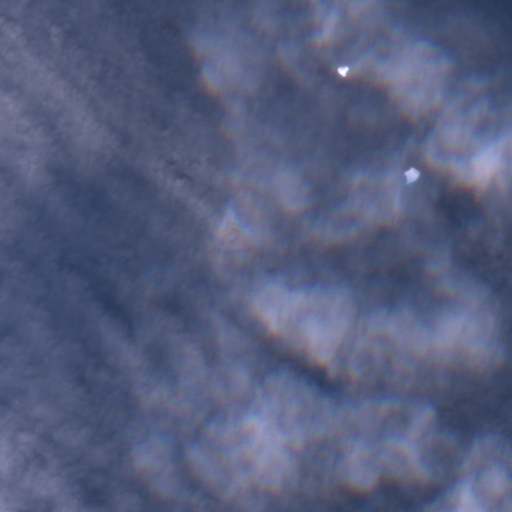Iceberg: (404, 167, 419, 182), (338, 66, 348, 76)
